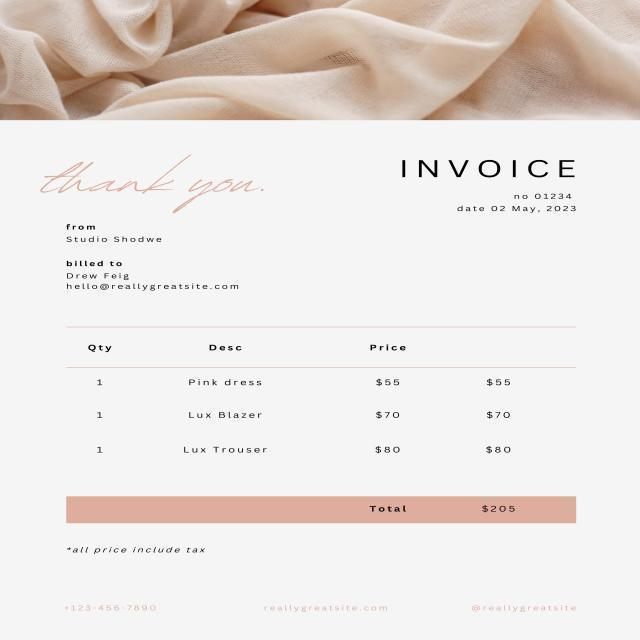ROI: (69, 328, 539, 474), (35, 150, 267, 218), (394, 151, 583, 215), (56, 597, 586, 617), (63, 257, 241, 293), (363, 496, 525, 522), (62, 220, 166, 247), (59, 540, 214, 558)
